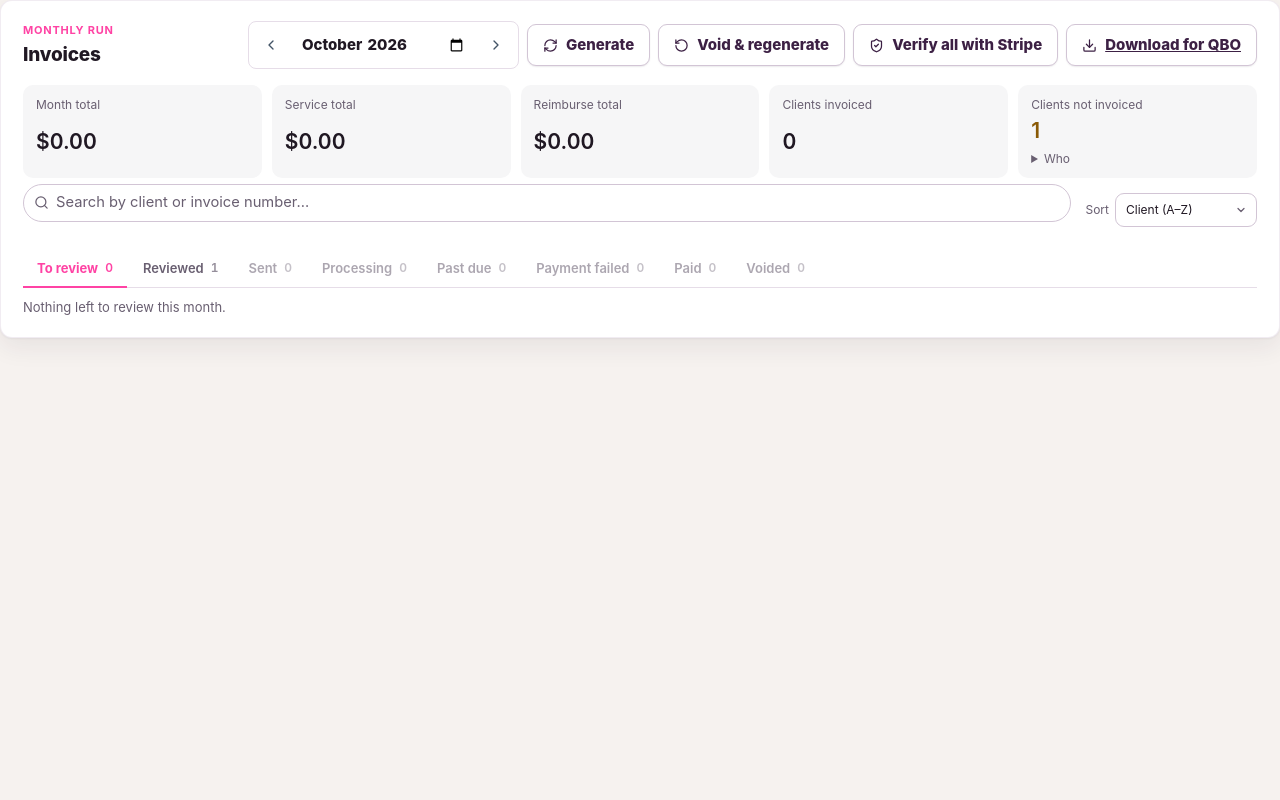
Test case: the month run lists the addressed company's addresses for a billing master › the picker opened from "Send to other addresses..." shows that company's addresses
Click the tab "Reviewed 1": (181, 269) [129,250,232,288]
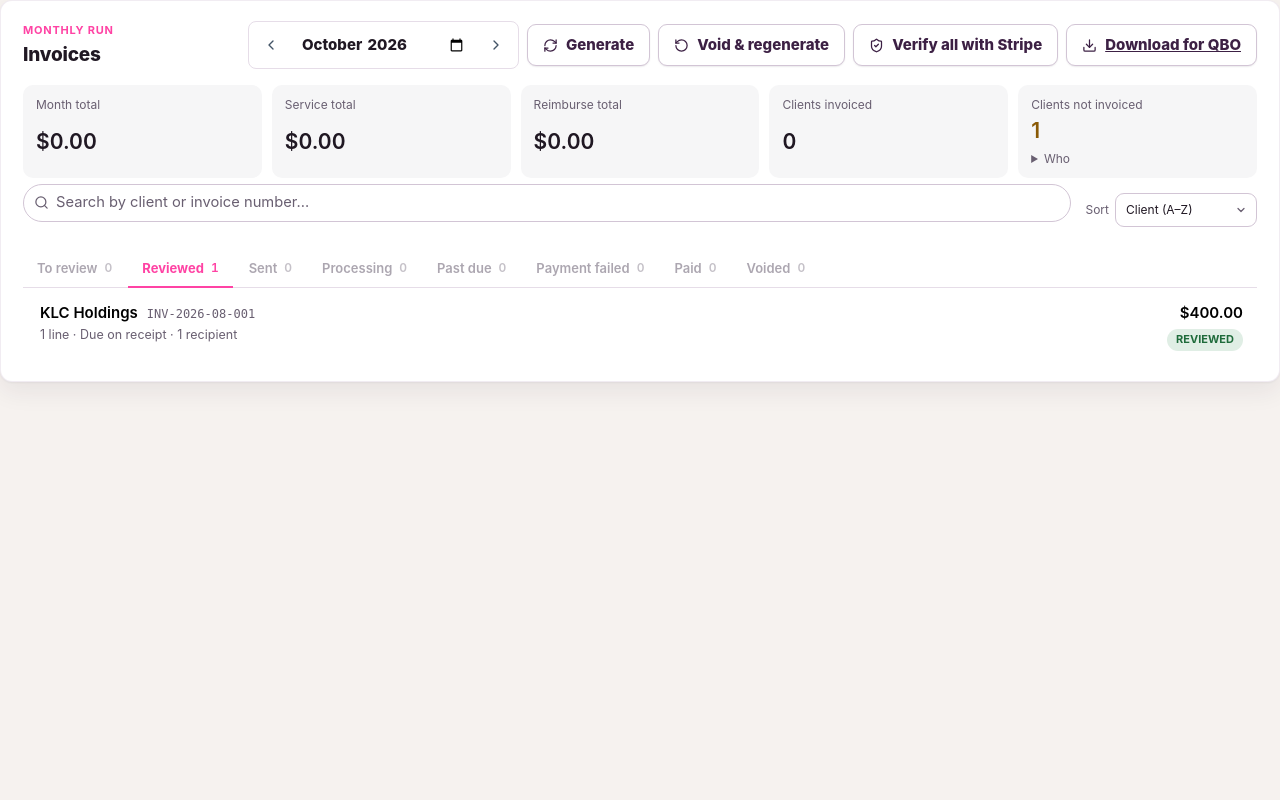
Click the text "INV-2026-08-001": (201, 315) [147,306,255,324]
(page scrolled)
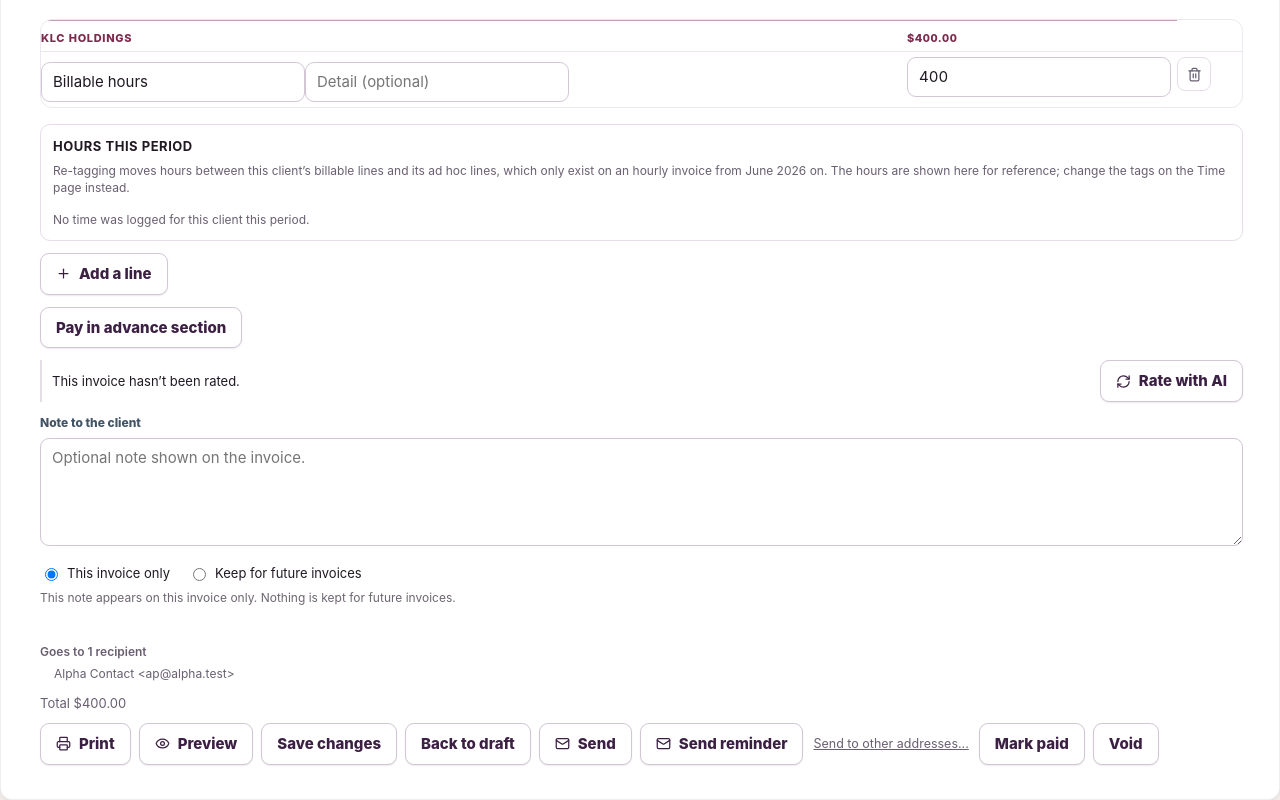
Click the button "Send to other addresses...": (891, 744) [812,723,971,765]
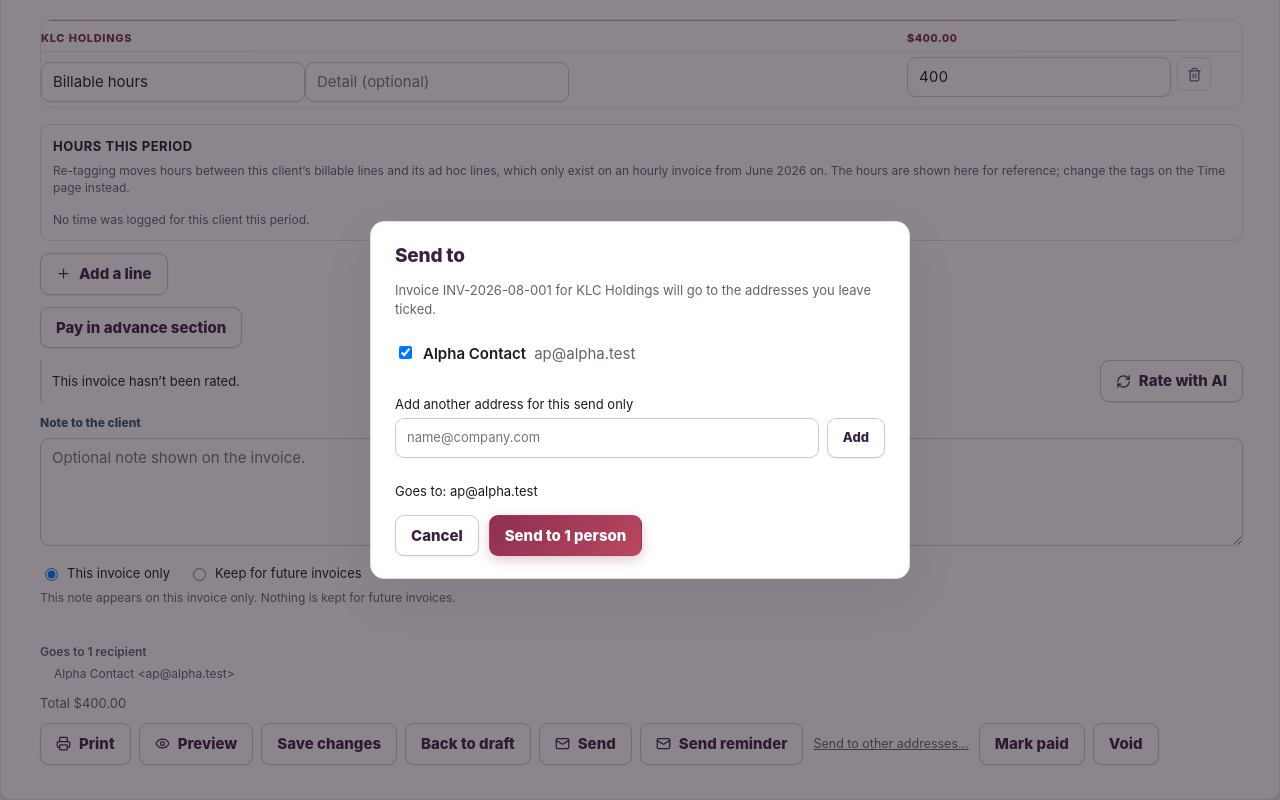
Expected: the checkbox labelled "Alpha Contact ap@alpha.test" is checked, [399,346,412,359]
Expected: the number of checkboxes is 1, [399,346,412,359]
